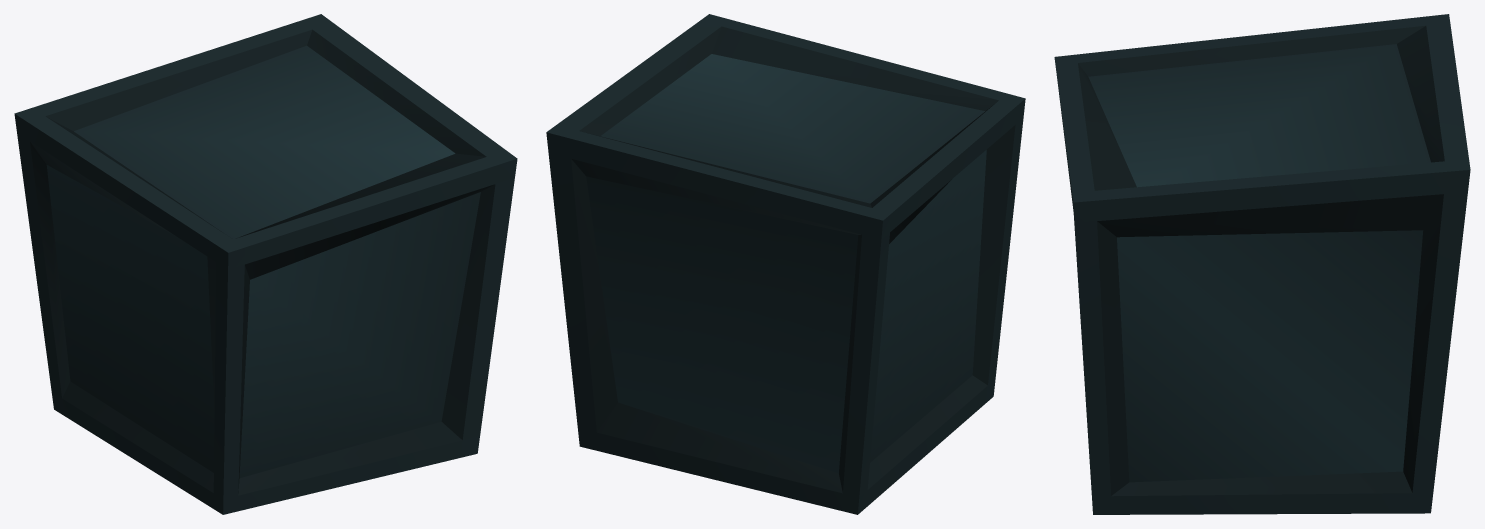
Rendered from c_box_cube_metal_aa.fbx.
The picture shows the model from 3 angles, left to right: view 1: azimuth 30°, elevation 25°; view 2: azimuth 150°, elevation 25°; view 3: azimuth 270°, elevation 25°; orthographic projection. The views are drawn at different scales.
Visible parts, largest first — view 1: c_box_cube_metal_aa; view 2: c_box_cube_metal_aa; view 3: c_box_cube_metal_aa.
Part boxes in pixels (x1,y1,x2,y2): c_box_cube_metal_aa: (14,14,517,514); c_box_cube_metal_aa: (546,14,1025,514); c_box_cube_metal_aa: (1054,14,1470,514).
Size of the model in its own units: 1.19 by 1.06 by 1.14.
